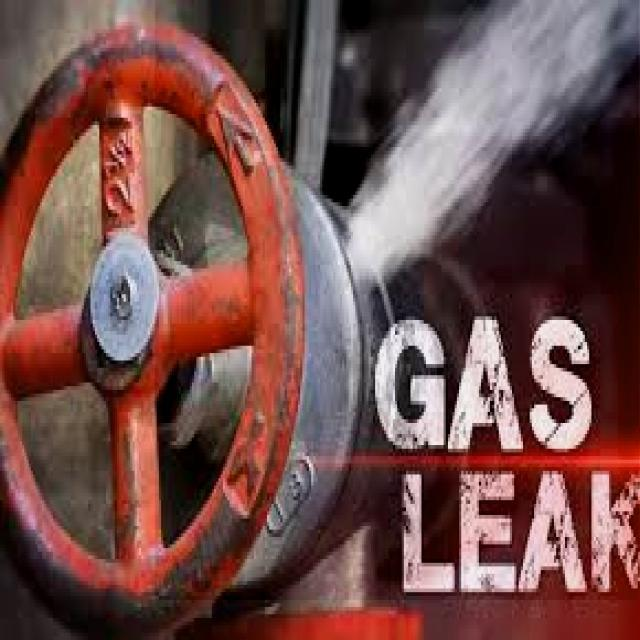corrosion: (307, 133, 430, 335)
